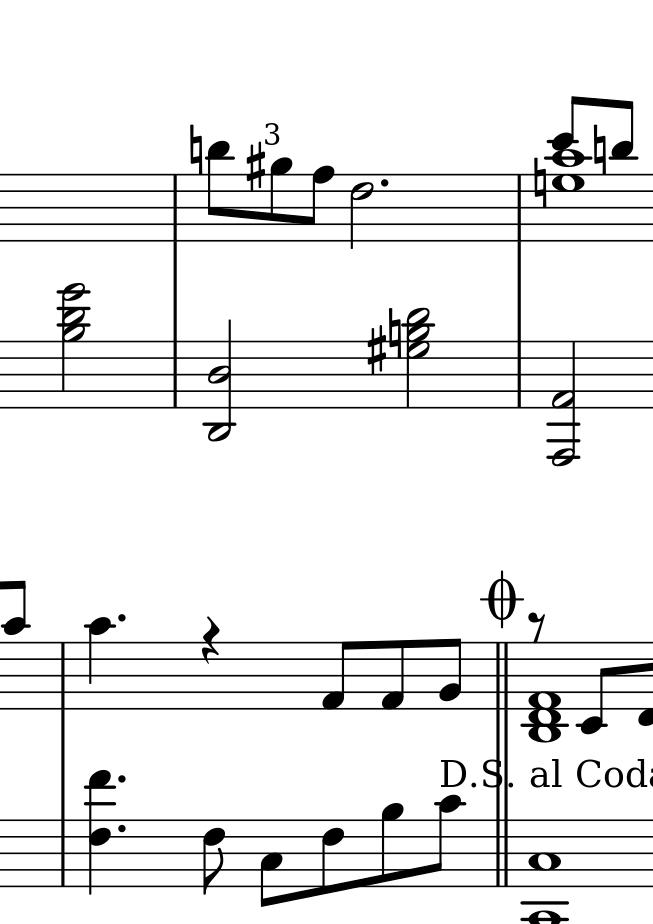1_3: (529, 819, 561, 889)
1_th: (522, 639, 573, 744)
2_-3_4: (202, 319, 236, 442)
2_-6_1: (546, 339, 581, 466)
2_th: (57, 280, 92, 411), (403, 306, 437, 410)
3: (262, 118, 280, 150)
4_10: (88, 617, 112, 713)
4_6_13: (83, 770, 115, 896)
8_-2: (578, 639, 610, 736)
8_1: (320, 641, 355, 711), (378, 639, 408, 711)
8_10: (432, 794, 465, 889)
8_11: (610, 98, 635, 243), (205, 139, 230, 245)
8_2: (437, 637, 462, 715)
8_3: (257, 817, 284, 911)
8_6: (319, 818, 345, 897), (201, 818, 227, 894)
8_8: (302, 165, 335, 242)
8_9: (268, 156, 293, 244), (380, 802, 402, 890)
Coda: (480, 570, 526, 627)
DSalcoda: (436, 756, 653, 790)
Natural: (592, 123, 612, 178), (532, 155, 550, 215), (387, 305, 403, 360), (189, 122, 204, 177)
Rests4: (200, 615, 222, 665)
Rests8: (526, 612, 547, 642)
Sharp: (245, 140, 266, 191), (368, 326, 386, 377)
Single_barline: (492, 641, 512, 709), (493, 820, 511, 886), (54, 643, 71, 708), (511, 339, 526, 408), (169, 174, 184, 242), (167, 340, 182, 407), (55, 821, 70, 884), (512, 174, 526, 241)
Tbn: (348, 173, 373, 252)
dot: (114, 612, 127, 626), (115, 822, 128, 836), (116, 774, 127, 784), (379, 178, 388, 188)
